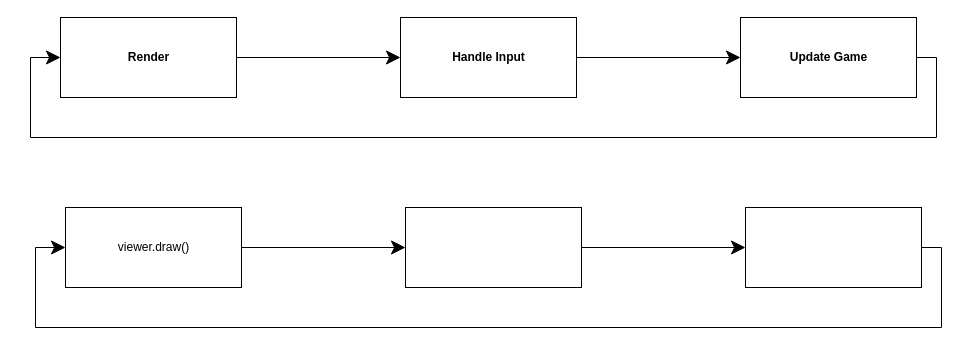
Image size: 973x359. Some labels were removed from this diagram. The box of each missing label's shape, as (x1, y1, x2, y2) in pixels:
controller.handleInput(): (404, 206, 582, 288)
model.update(): (744, 206, 922, 288)
